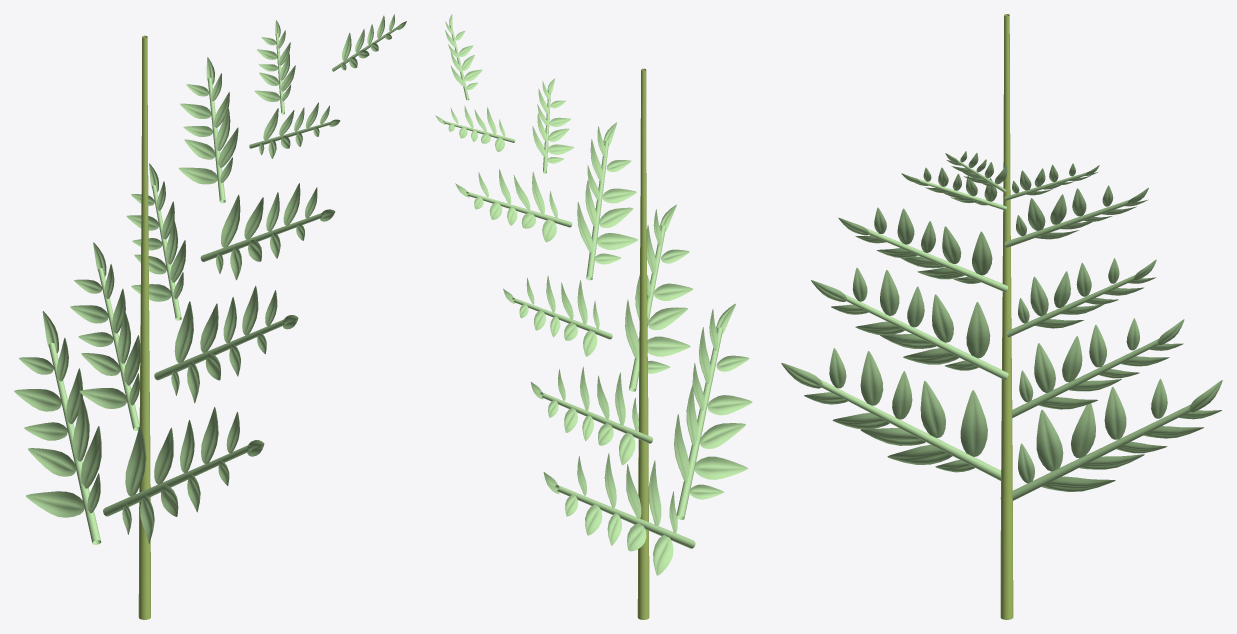
File: cafd.gltf
3 renders of one model, left to right at view 1: azimuth 30°, elevation 25°; view 2: azimuth 150°, elevation 25°; view 3: azimuth 270°, elevation 25°, orthographic. The views are drawn at different scales.
Visible parts, largest first — view 1: Vert.001, Vert.002, Vert.004, gun, Vert.003, Vert.005, Vert.007, Vert.006, Vert.008, Vert.009, Vert.010; view 2: Vert.002, Vert.001, gun, Vert.003, Vert.005, Vert.004, Vert.006, Vert.007, Vert.009, Vert.008, Vert.010; view 3: Vert.002, Vert.001, Vert.003, gun, Vert.004, Vert.005, Vert.006, Vert.007, Vert.009, Vert.008, Vert.010.
Part boxes in pixels (<box>): Vert.001: <box>14,311,101,544</box>; Vert.002: <box>103,407,264,543</box>; Vert.004: <box>70,242,140,430</box>; gun: <box>138,35,150,619</box>; Vert.003: <box>154,286,298,403</box>; Vert.005: <box>200,183,335,280</box>; Vert.007: <box>178,57,238,203</box>; Vert.006: <box>126,163,186,320</box>; Vert.008: <box>254,20,295,114</box>; Vert.009: <box>249,102,340,158</box>; Vert.010: <box>332,14,406,71</box>; Vert.002: <box>674,303,752,519</box>; Vert.001: <box>543,453,695,575</box>; gun: <box>637,68,649,619</box>; Vert.003: <box>625,204,693,391</box>; Vert.005: <box>577,122,637,280</box>; Vert.004: <box>530,366,653,465</box>; Vert.006: <box>503,275,612,356</box>; Vert.007: <box>455,169,572,242</box>; Vert.009: <box>532,78,574,173</box>; Vert.008: <box>435,105,515,151</box>; Vert.010: <box>445,14,482,100</box>; Vert.002: <box>781,348,1000,480</box>; Vert.001: <box>1000,379,1222,500</box>; Vert.003: <box>811,267,1008,379</box>; gun: <box>1000,14,1013,619</box>; Vert.004: <box>1012,318,1184,417</box>; Vert.005: <box>838,207,1007,291</box>; Vert.006: <box>1006,258,1156,337</box>; Vert.007: <box>1004,185,1148,247</box>; Vert.009: <box>901,167,1006,210</box>; Vert.008: <box>1004,163,1099,200</box>; Vert.010: <box>945,151,1007,192</box>.
Size of the model in its own units: 3.95 by 7.31 by 4.86.
